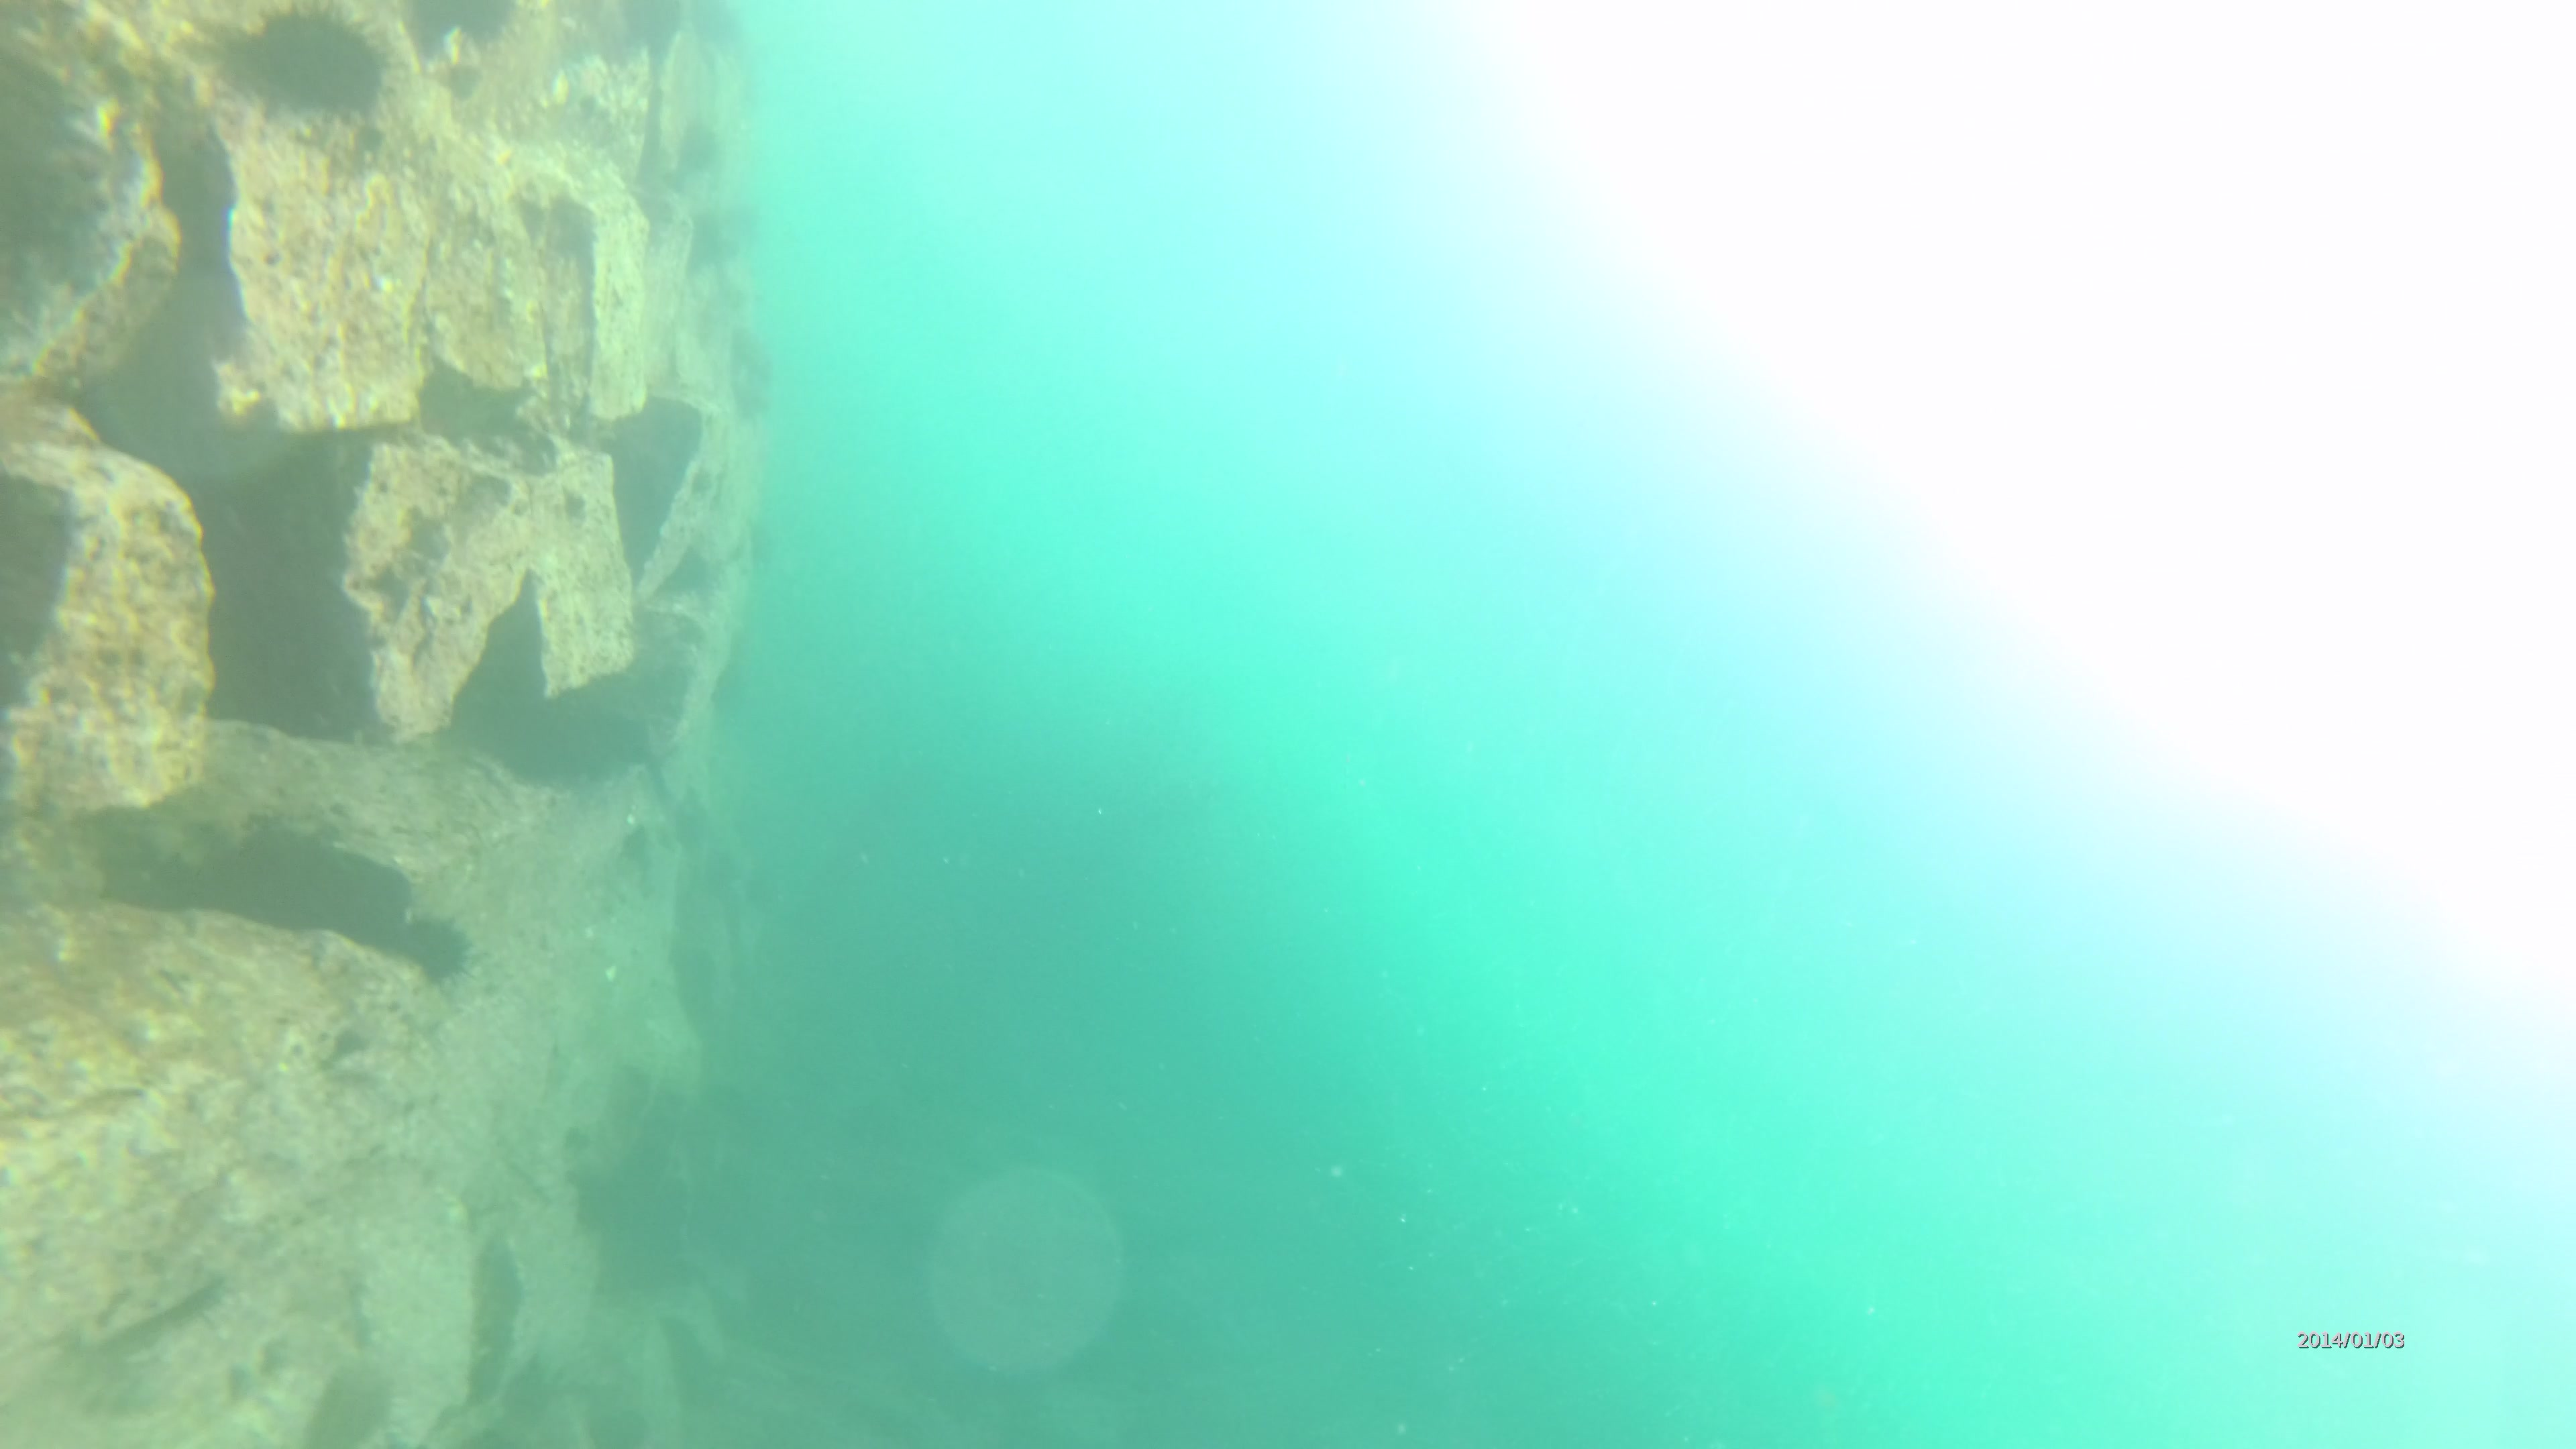echinus: (244, 0, 391, 115), (393, 906, 478, 980), (674, 113, 729, 180)
